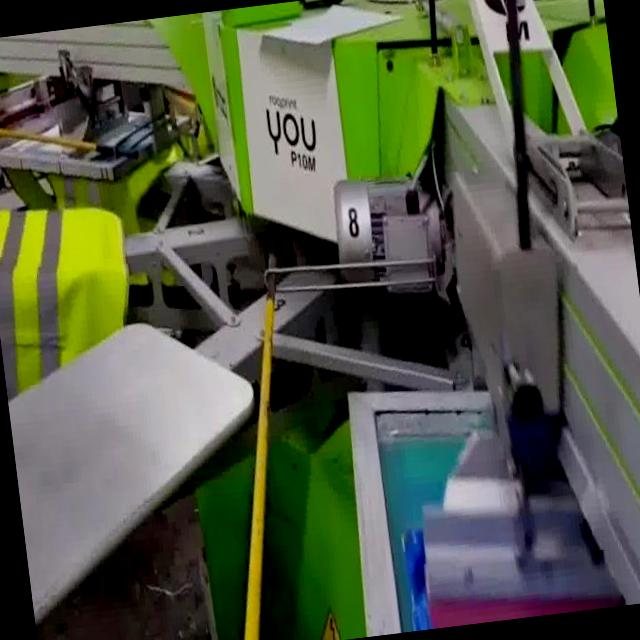vest: (0, 194, 143, 397)
